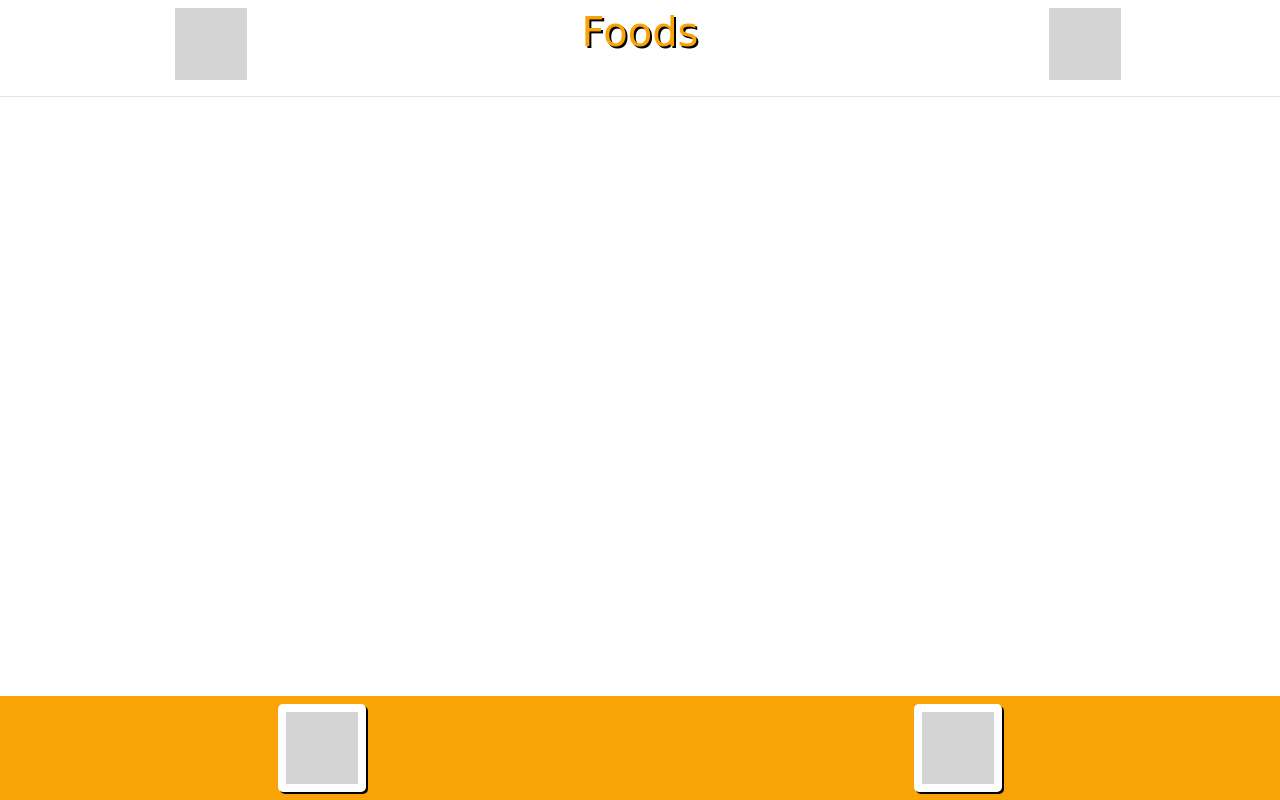
Test: Profile Header Tests › profile page header test
Click the button with test id "profile-top-btn". click: (203, 44)
box: x1=175 y1=8 x2=231 y2=80
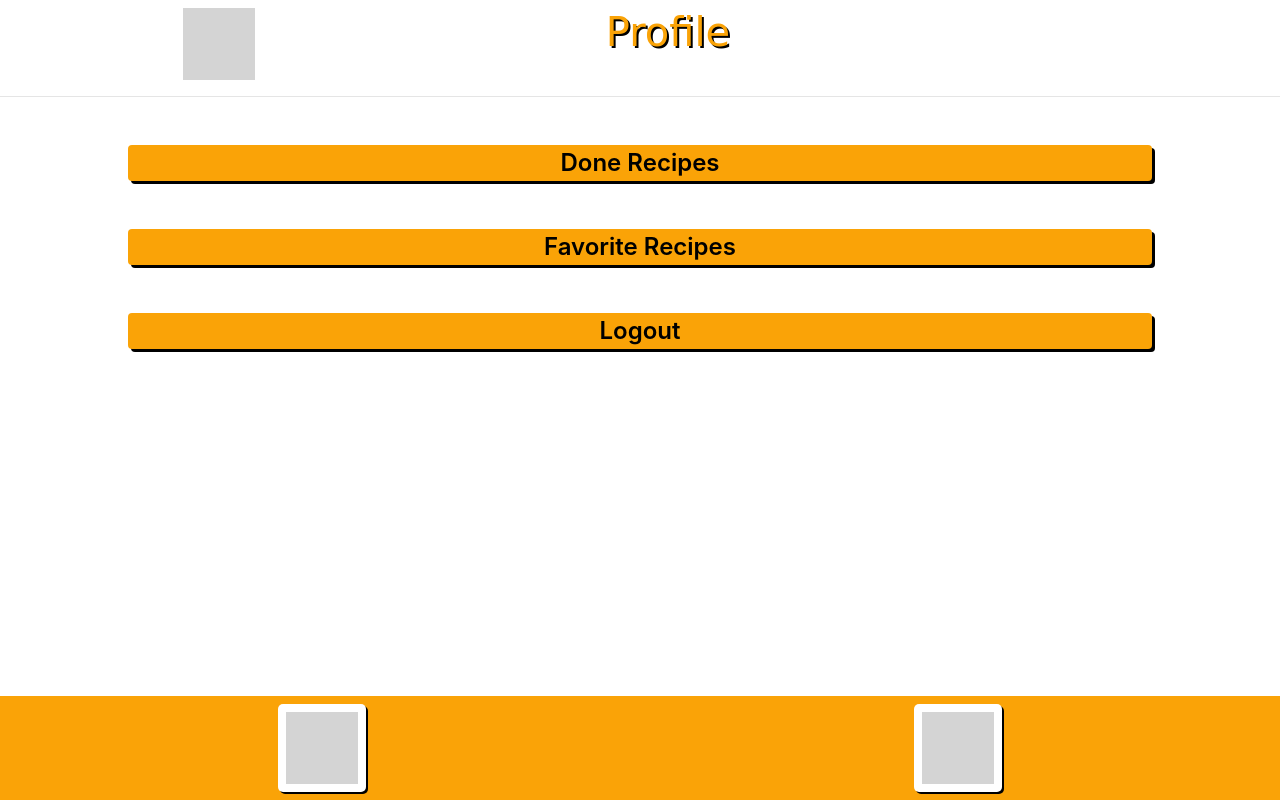
Check: the heading "Profile" is shown, box x1=606 y1=8 x2=730 y2=72
Check: the heading with test id "page-title" reads "Profile", box x1=606 y1=9 x2=730 y2=55
Check: the picture with test id "search-top-btn" is gone
